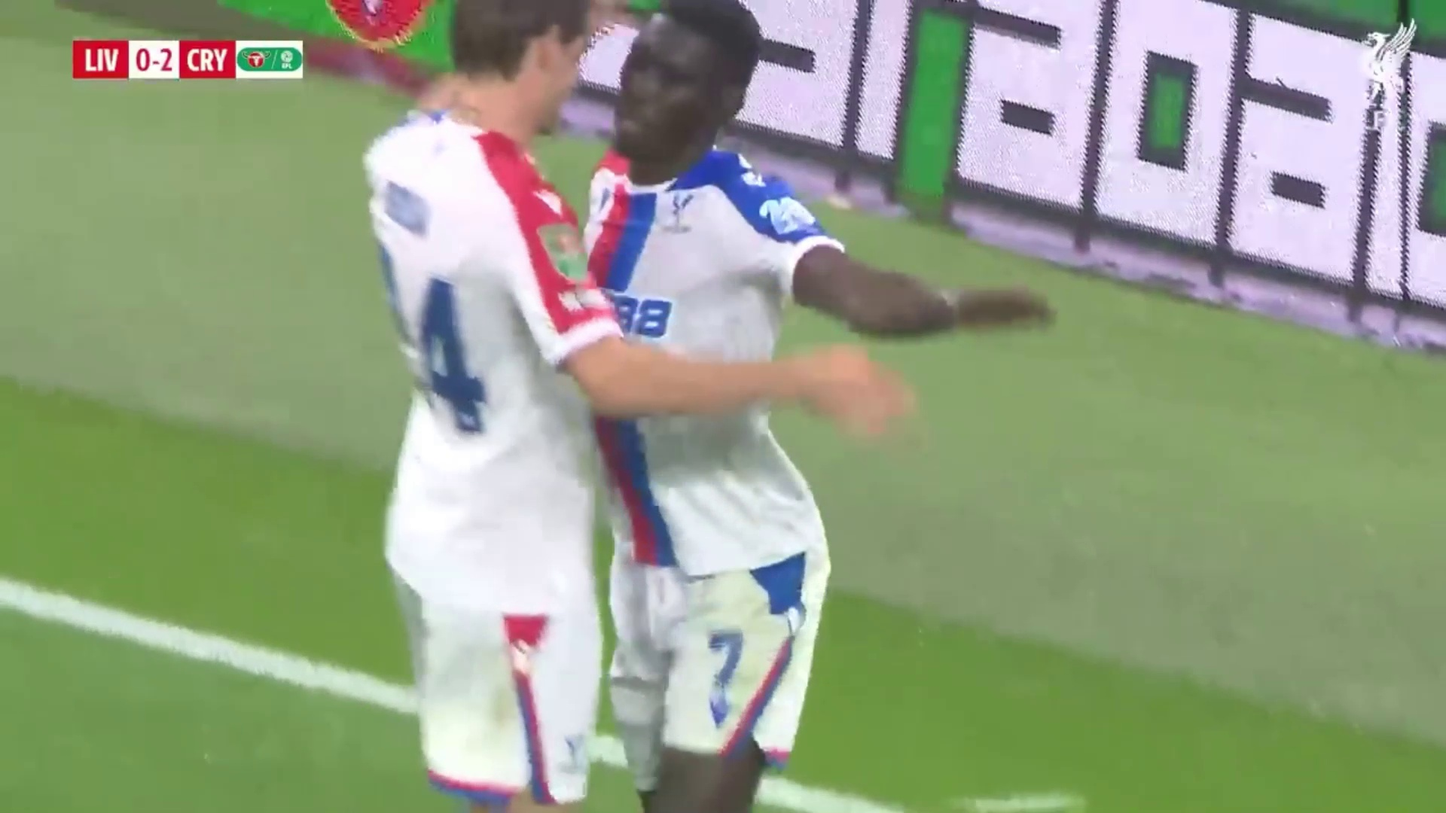player: (363, 4, 918, 805), (584, 3, 1051, 791)
